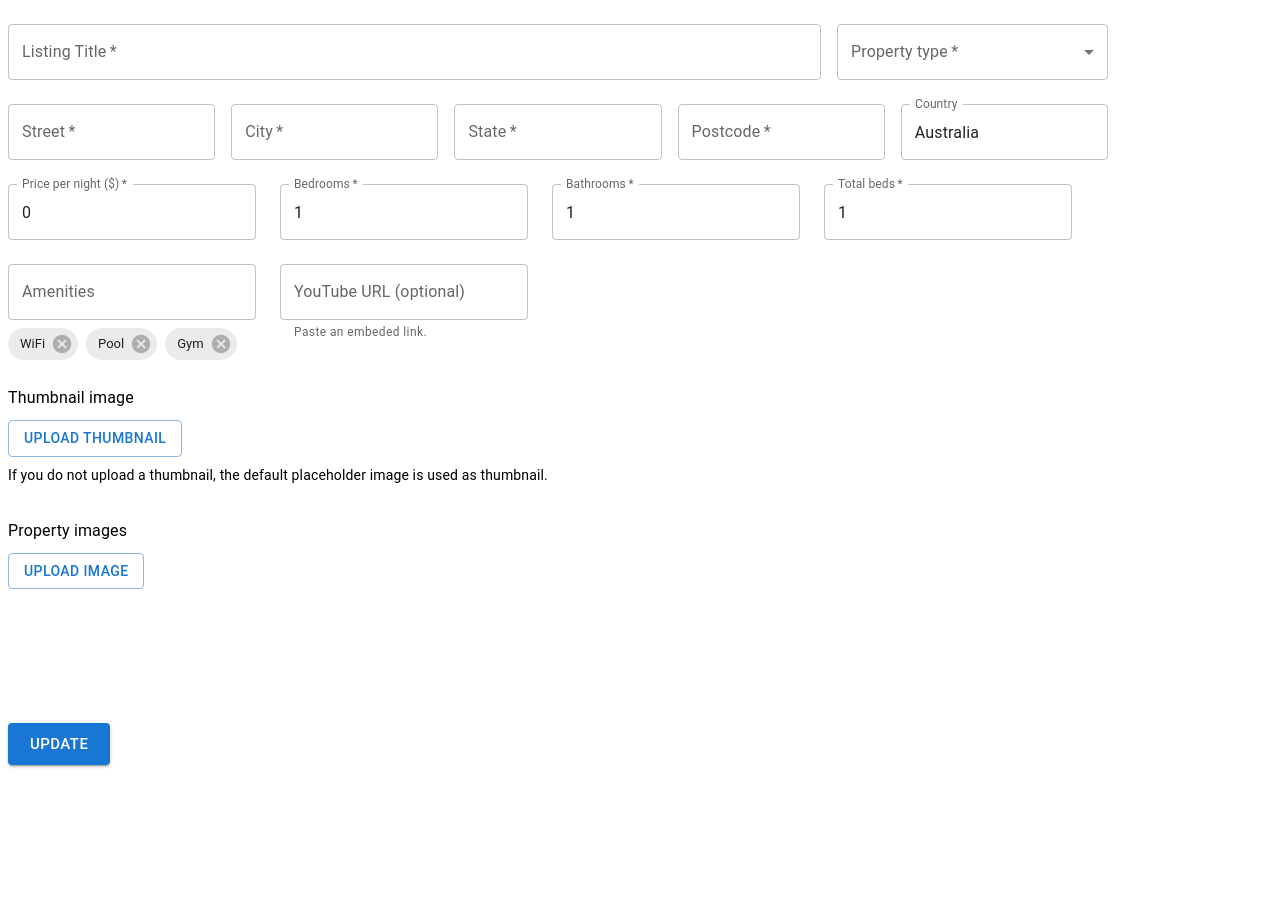
Test: ListingForm › allows user to remove amenities
The width and height of the screenshot is (1280, 900).
Check: the text "WiFi" is shown, box [20,336,45,351]
Check: the text "Pool" is shown, box [98,336,124,351]
// Remove first amenity (WiFi)
Click the 1st icon with test id "CancelIcon": (62,344) [51,333,73,355]
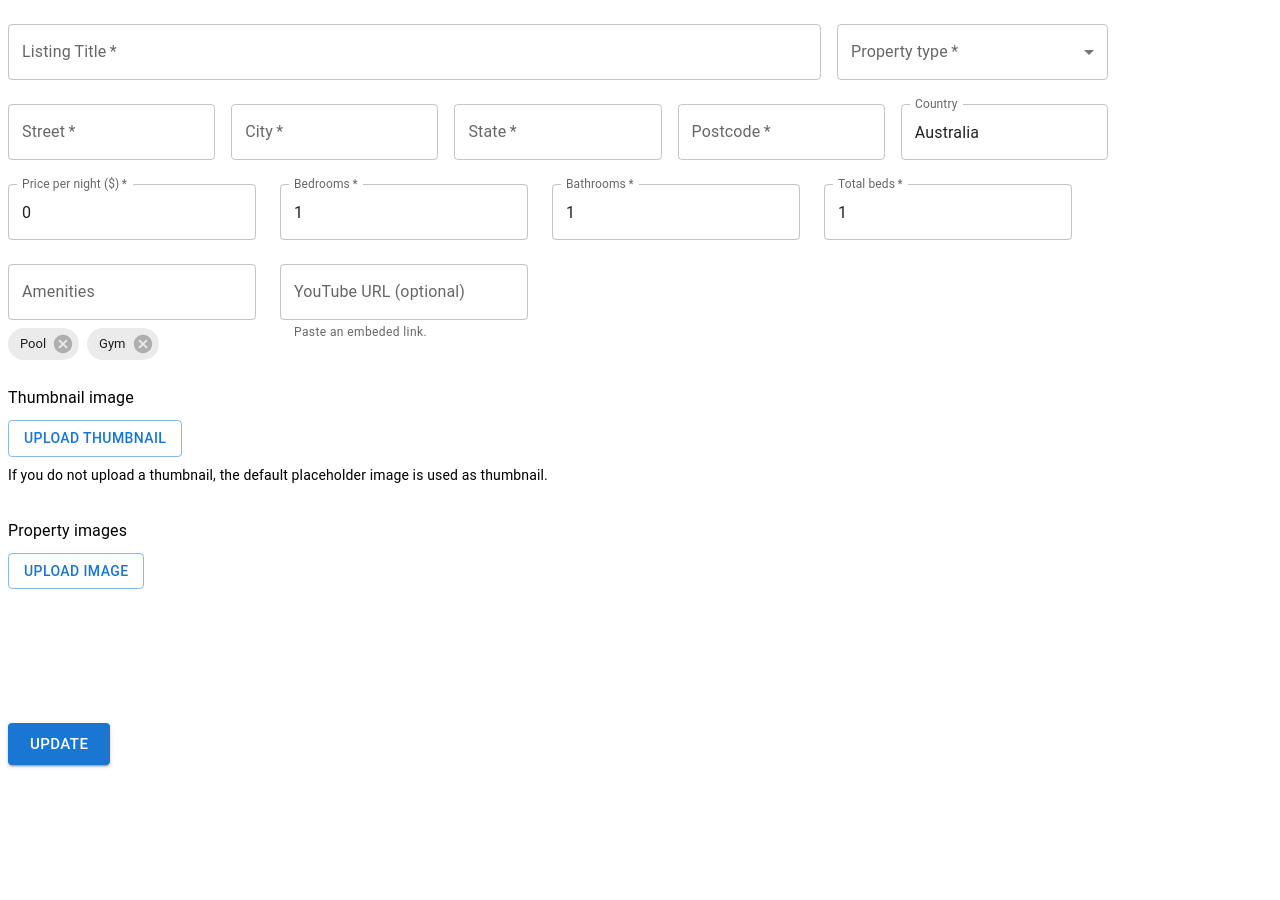
Check: the text "Pool" is shown, box [20,336,46,351]
Check: the button "WiFi" is gone
